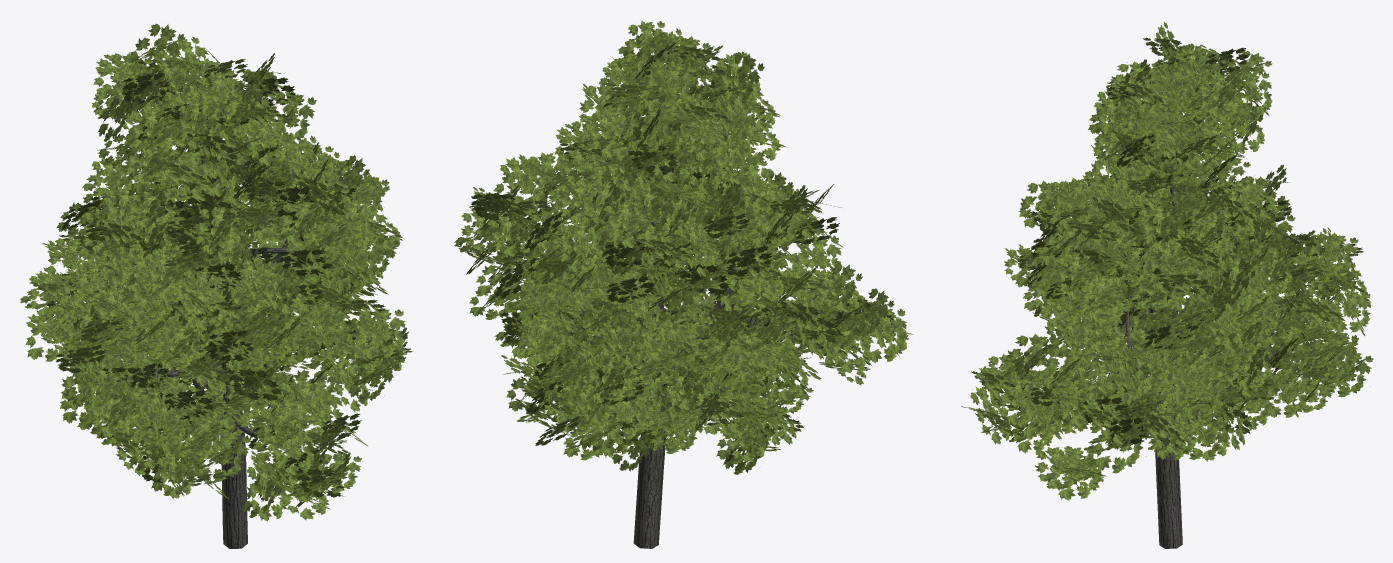
The model's file is sugar_maple_2_hero.obj.
The picture shows the model from 3 angles, left to right: view 1: azimuth 30°, elevation 25°; view 2: azimuth 150°, elevation 25°; view 3: azimuth 270°, elevation 25°; orthographic projection. The views are drawn at different scales.
Visible parts, largest first — view 1: Leaves, Trunk, Branches; view 2: Leaves, Trunk; view 3: Leaves, Trunk, Branches.
Boxes of the visible parts, x1,y1,x2,y2 form: Leaves: [20, 23, 412, 521]; Trunk: [201, 160, 247, 548]; Branches: [139, 239, 306, 436]; Leaves: [454, 20, 913, 474]; Trunk: [633, 167, 676, 548]; Leaves: [961, 22, 1373, 500]; Trunk: [1155, 164, 1182, 548]; Branches: [1113, 241, 1290, 431].
Bounding box in the file's own units: 17.96 × 22.52 × 18.04.
Materials: 2 (2 with a texture image).
